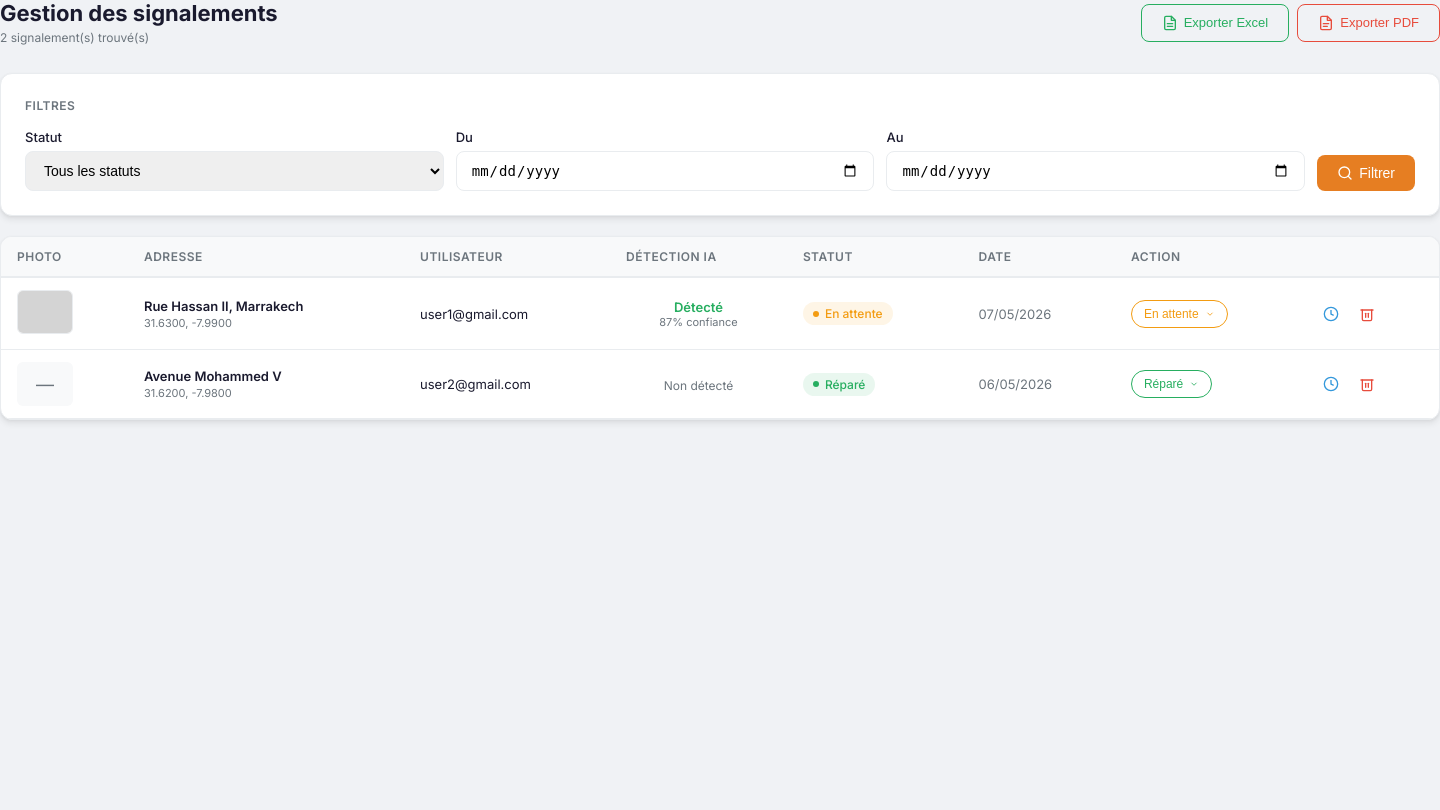
Test: Reports › ouvre le modal de suppression quand on clique sur supprimer
Expected: the text "Rue Hassan II, Marrakech" is shown, top-left (144, 298), bottom-right (303, 314)
Click the button titled "Supprimer le signalement" in the row of "Rue Hassan II, Marrakech".
click(1366, 314)  # box top-left (1352, 300), bottom-right (1380, 328)
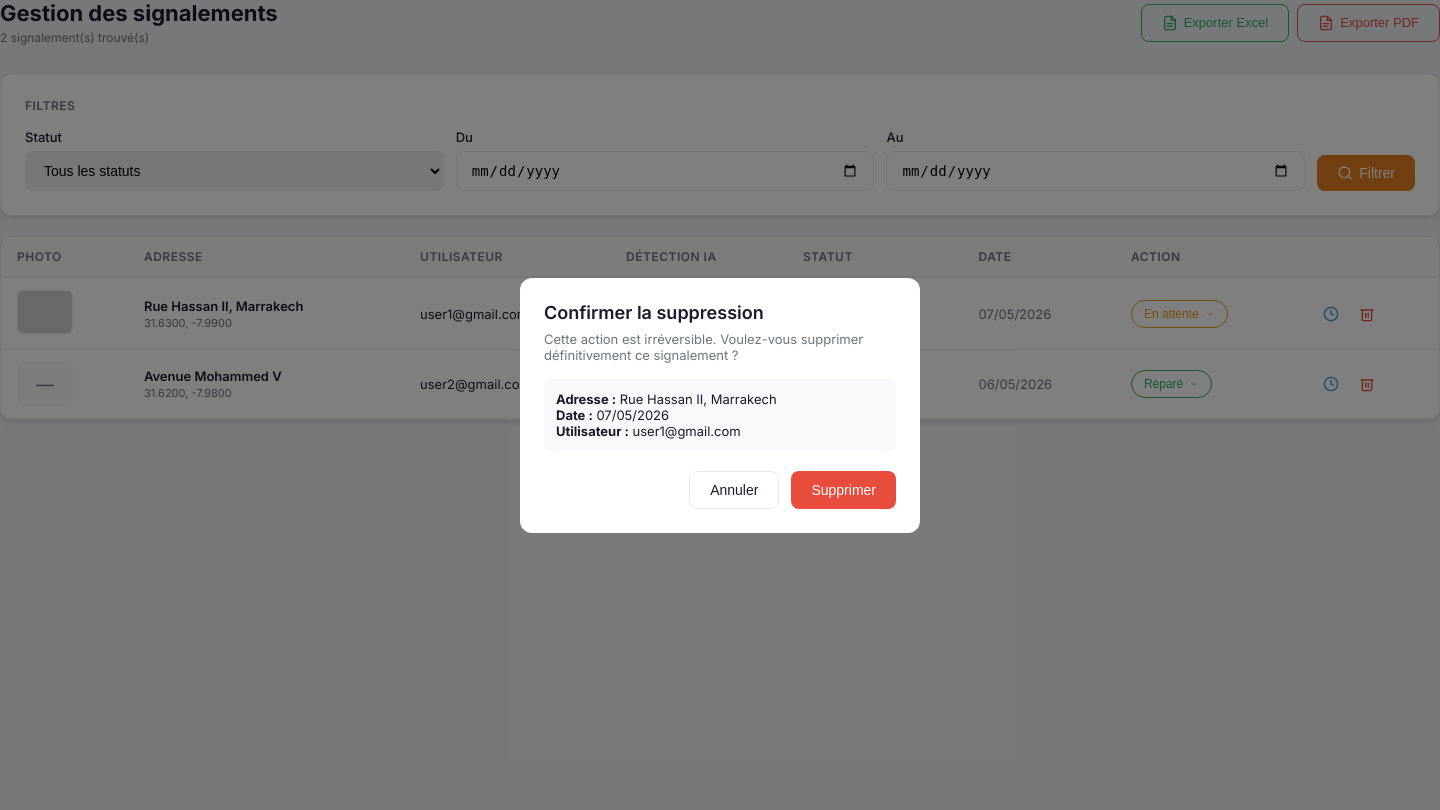
Expected: the text "Confirmer la suppression" is shown, top-left (544, 302), bottom-right (764, 322)
